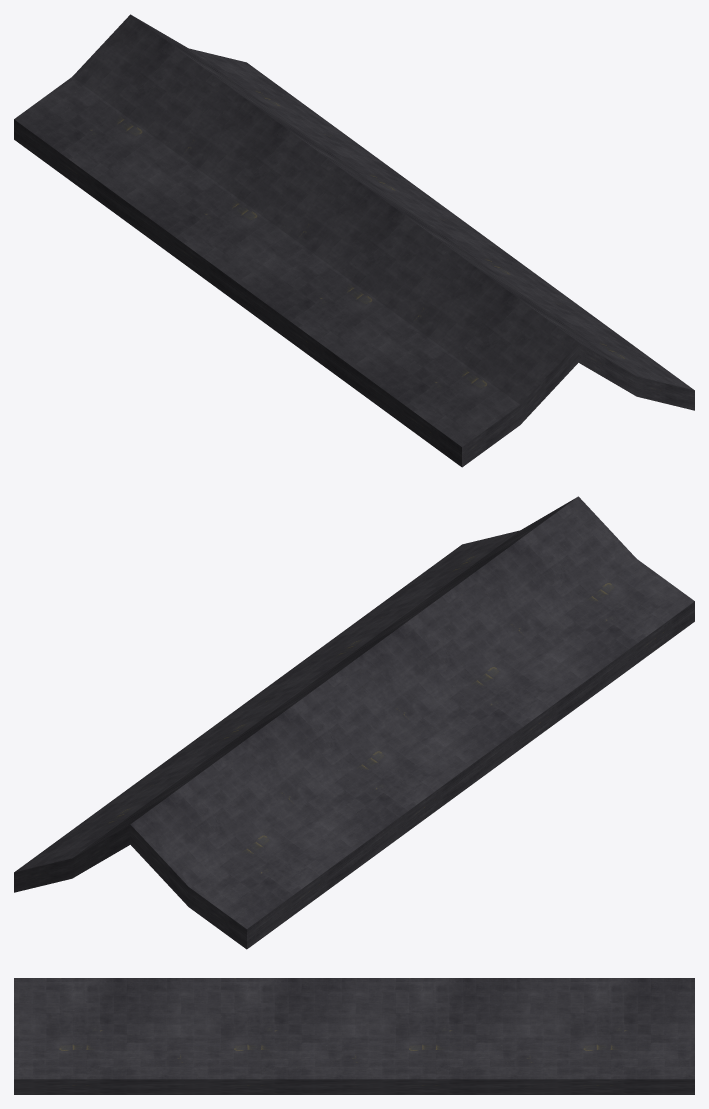
File: house61.obj
3 renders of one model, top to bottom at view 1: azimuth 30°, elevation 25°; view 2: azimuth 150°, elevation 25°; view 3: azimuth 270°, elevation 25°, orthographic. The views are drawn at different scales.
Parts seen in each view (by area): view 1: 立方体.089; view 2: 立方体.089; view 3: 立方体.089.
Boxes of the visible parts, x1,y1,x2,y2 form: 立方体.089: (14, 14, 694, 467); 立方体.089: (14, 496, 694, 949); 立方体.089: (14, 978, 694, 1094).
Size of the model in its own units: 24 by 9.53 by 80.
1 material, 1 textured.
